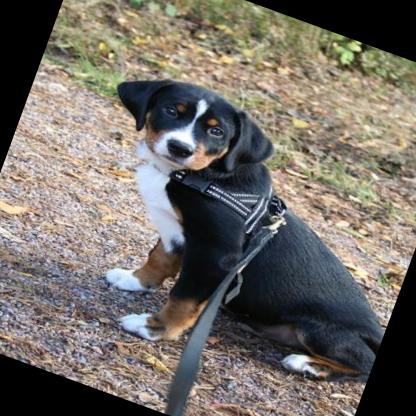Appenzeller: (28, 49, 416, 415)
